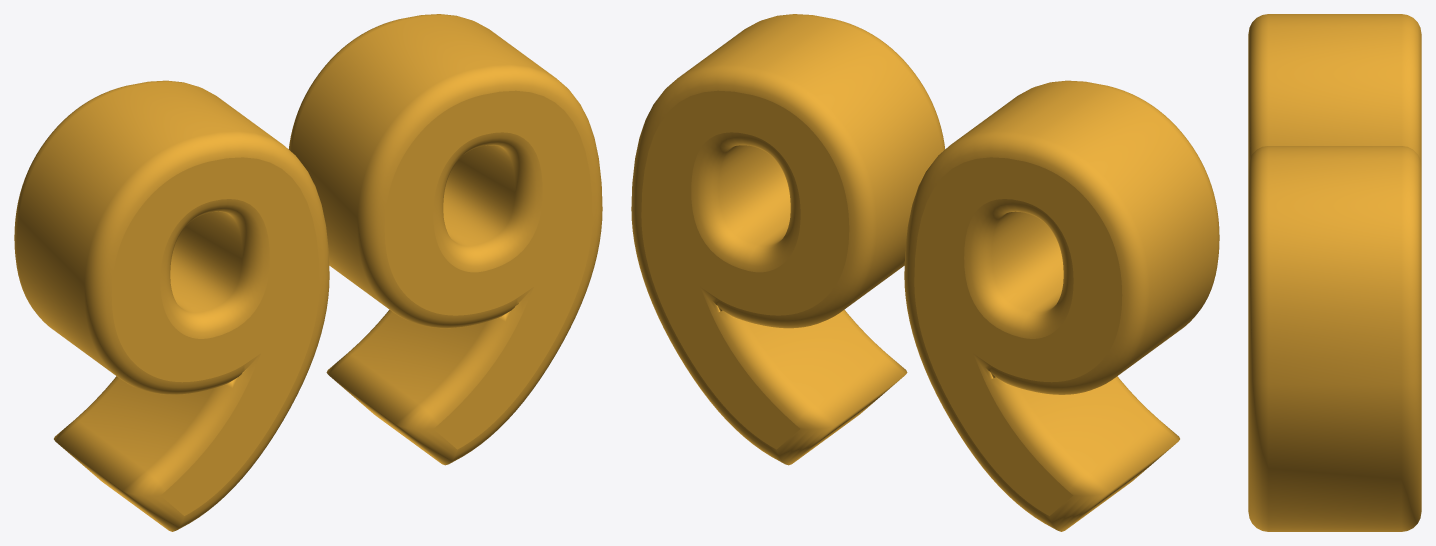
The picture shows the model from 3 angles, left to right: view 1: azimuth 30°, elevation 25°; view 2: azimuth 150°, elevation 25°; view 3: azimuth 270°, elevation 25°; orthographic projection.
Parts seen in each view (by area): view 1: Text; view 2: Text; view 3: Text.
Boxes of the visible parts, box(x1,y1,x2,y2) form: Text: box(14, 14, 602, 531); Text: box(631, 14, 1219, 531); Text: box(1248, 14, 1421, 531).
Bounding box in the file's own units: 88.57 × 63.6 × 26.
